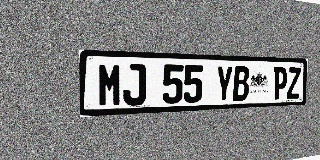5: (163, 64, 184, 104), (184, 65, 203, 103)
B: (233, 66, 250, 101)
J: (123, 64, 146, 106)
M: (98, 63, 122, 107)
P: (273, 67, 288, 99)
Y: (215, 66, 233, 102)
Z: (287, 67, 301, 99)
